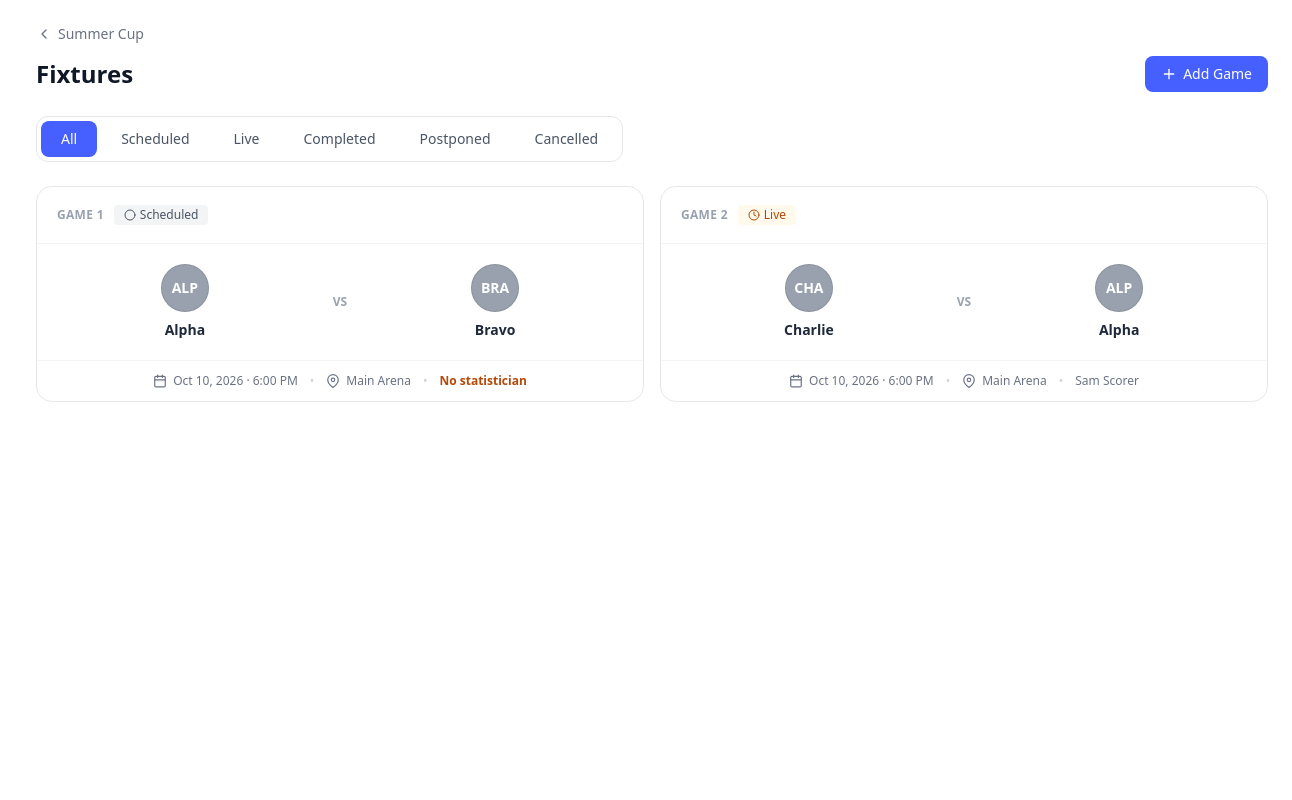
Test case: Fixtures: list › filters by status through the URL and returns to page one
Click the button "Live": (246, 139) left=214, top=121, right=280, bottom=157
(page scrolled)
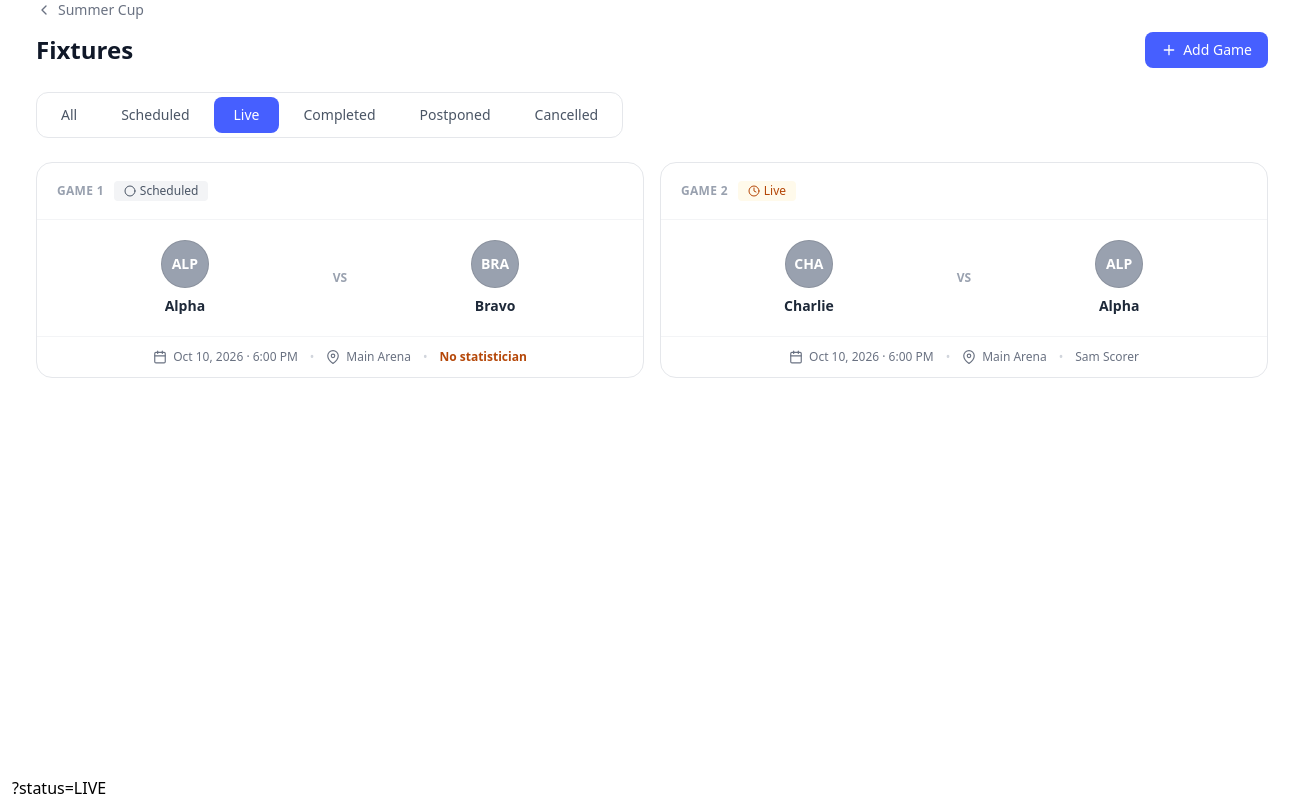
Result: the text with test id "where" reads "?status=LIVE" at left=12, top=777, right=106, bottom=799
